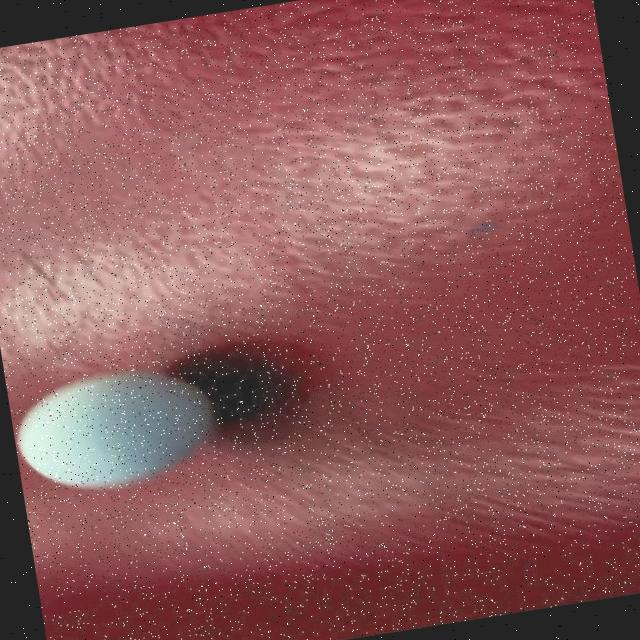ping-pong-ball: (4, 336, 250, 518)
